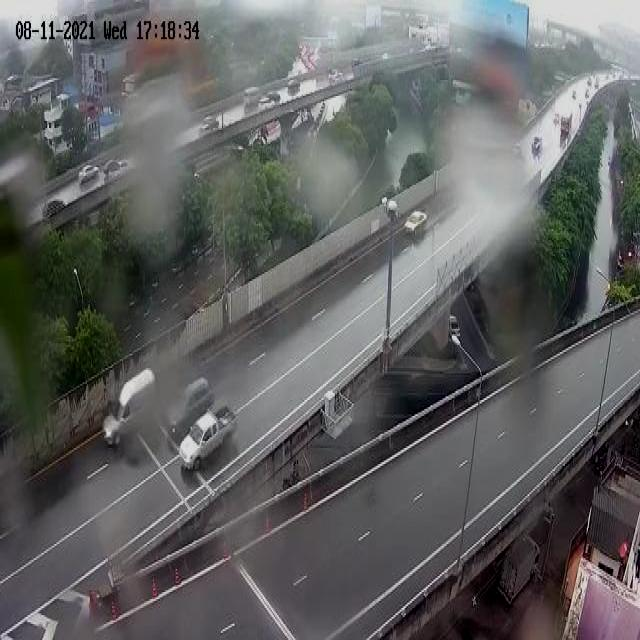Car: (167, 376, 214, 439), (404, 210, 429, 241), (77, 163, 99, 186), (450, 313, 462, 341)
Truck: (102, 368, 157, 450), (177, 402, 238, 472), (496, 532, 540, 608)
